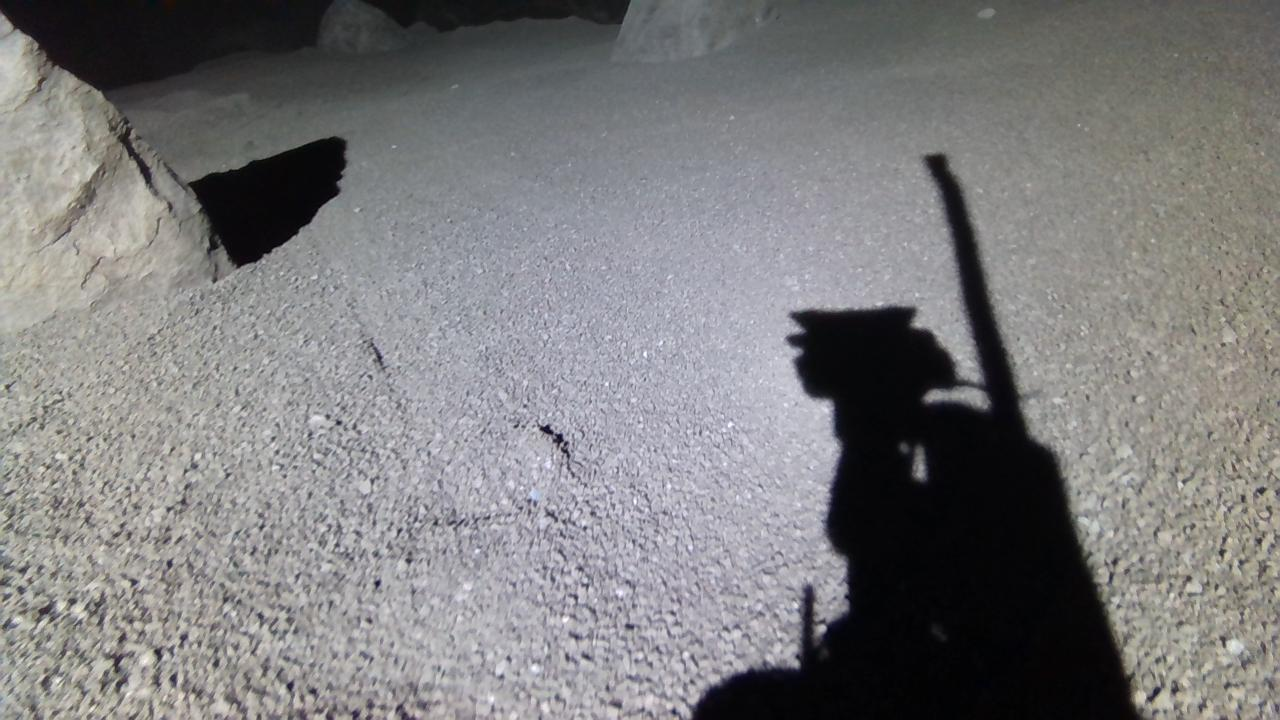rock: (612, 0, 779, 61), (316, 0, 408, 50)
